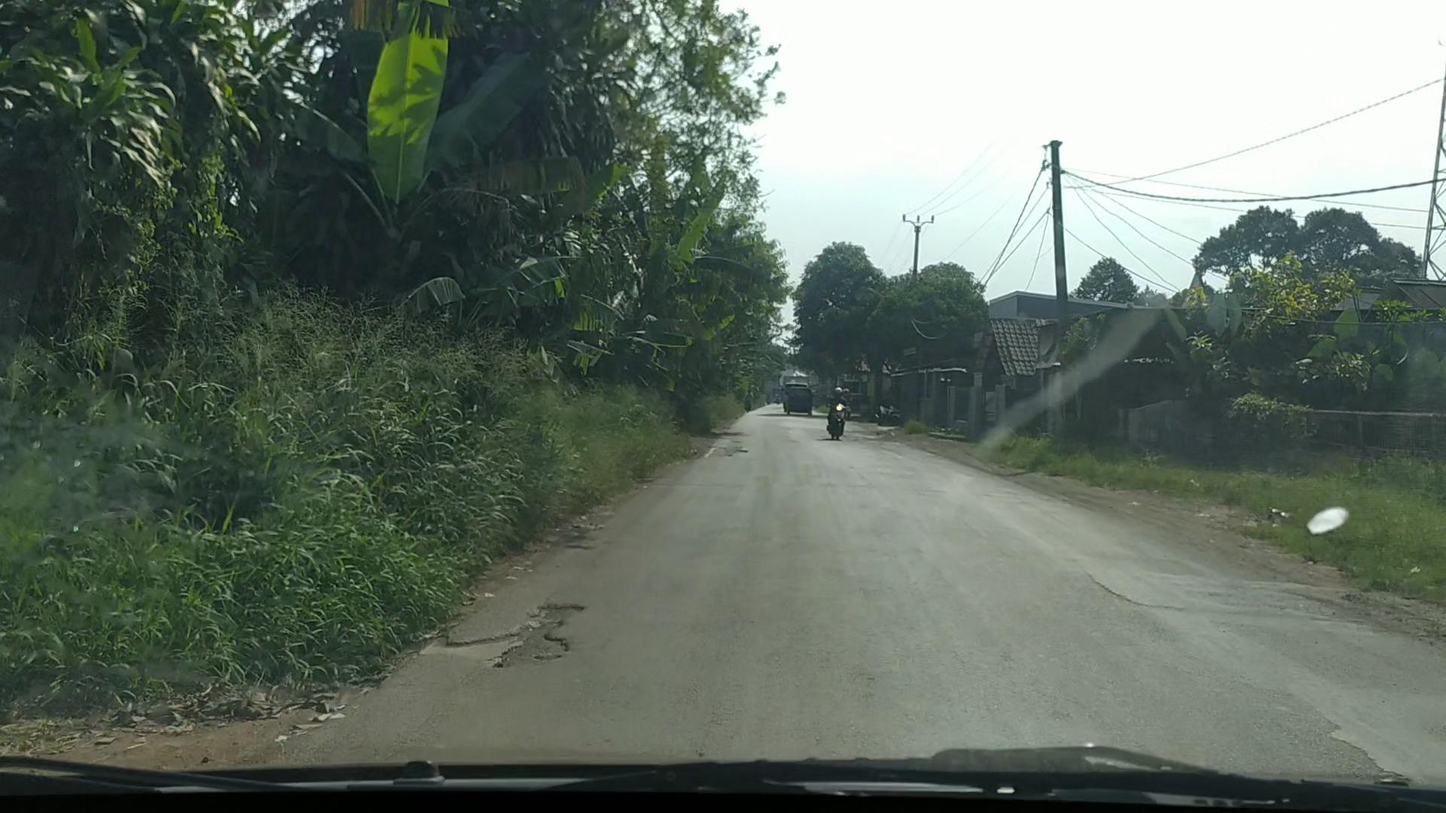pothole: (419, 601, 587, 669)
